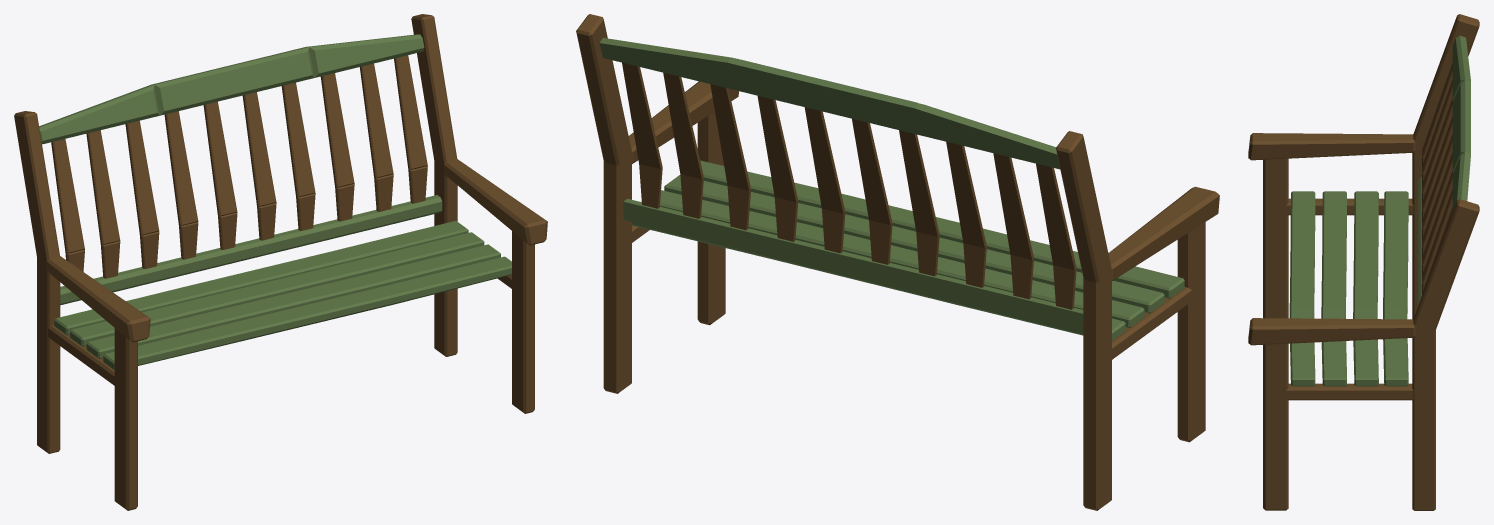
File: bench_a.gltf
3 views of the same model, side by side, from view 1: azimuth 30°, elevation 25°; view 2: azimuth 150°, elevation 25°; view 3: azimuth 270°, elevation 25° (orthographic). The views are drawn at different scales.
Parts seen in each view (by area): view 1: bench_a001; view 2: bench_a001; view 3: bench_a001.
Boxes of the visible parts, x1,y1,x2,y2 form: bench_a001: [14, 14, 547, 510]; bench_a001: [576, 14, 1219, 510]; bench_a001: [1248, 14, 1479, 510].
Size of the model in its own units: 1.38 by 1.01 by 0.6873.
1 material, 1 textured.
